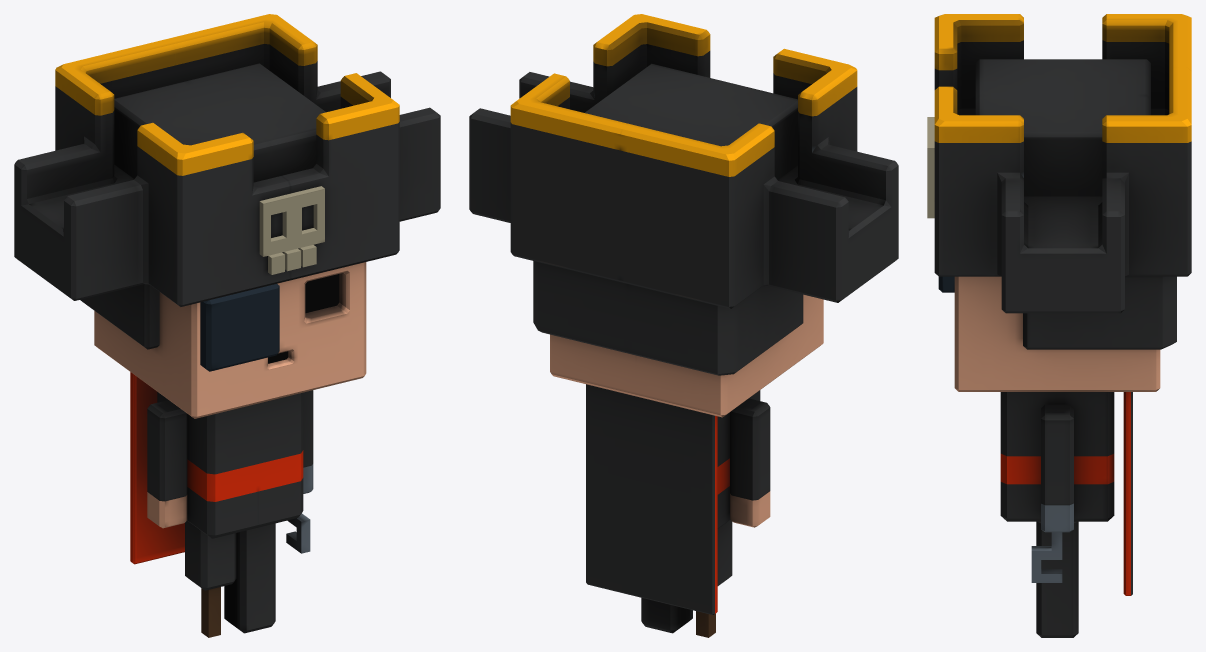
Rendered from PirateCaptain.FBX.
3 views of the same model, side by side, from view 1: azimuth 30°, elevation 25°; view 2: azimuth 150°, elevation 25°; view 3: azimuth 270°, elevation 25° (orthographic).
Parts seen in each view (by area): view 1: Object04; view 2: Object04; view 3: Object04.
Part boxes in pixels (x1,y1,x2,y2): Object04: (14,14,440,637); Object04: (469,14,898,637); Object04: (927,14,1191,637).
Size of the model in its own units: 10.57 by 14.84 by 6.42.
1 material, 1 textured.
